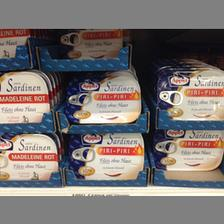Fisch: (66, 73, 140, 123), (65, 133, 143, 179), (155, 68, 223, 120), (152, 126, 224, 170), (0, 133, 60, 173), (0, 71, 48, 120)
